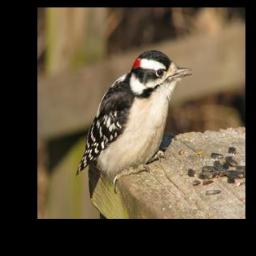Woodpecker: (75, 50, 195, 194)
